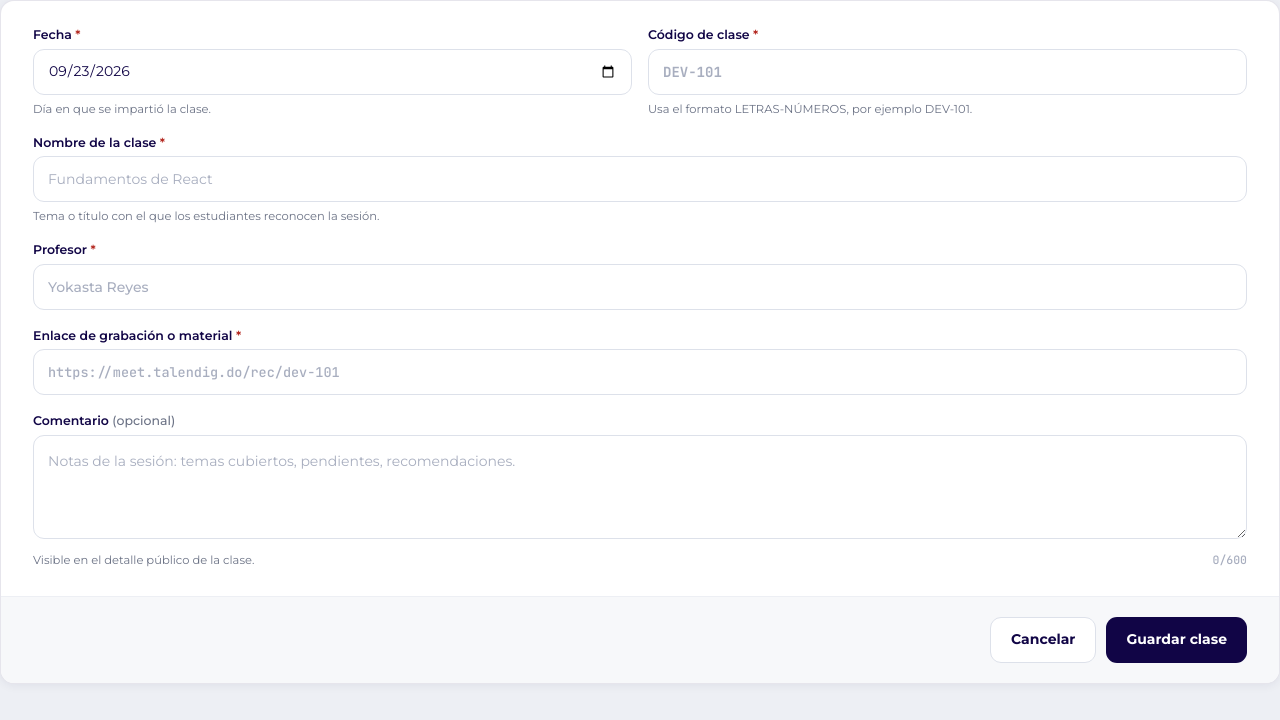
Test: ClassForm › counts the comment against its limit as it is typed
The width and height of the screenshot is (1280, 720).
Expected: the text "0/600" is shown, [1212,552,1247,568]
Step 1. Type "Hola" into the text box labelled "Comentario (opcional)" → (640,487), box [33,435,1247,539]
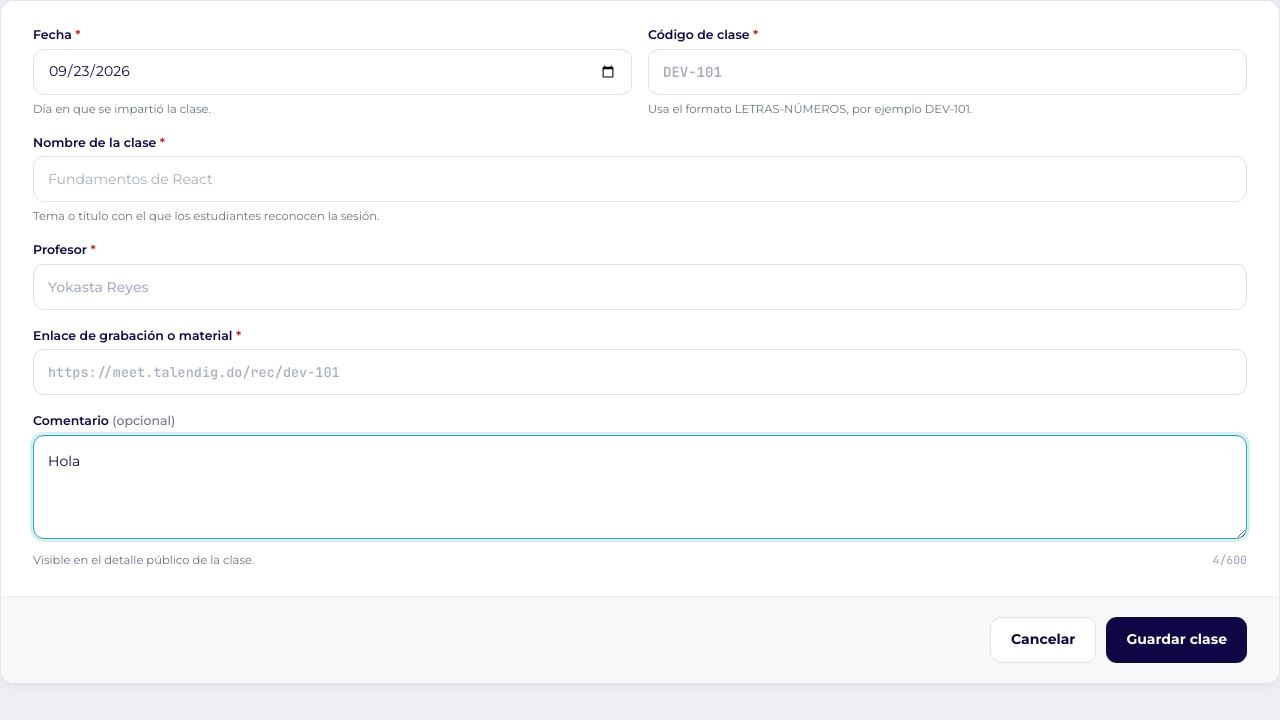
Expected: the text "4/600" is shown, [1212,552,1247,568]
